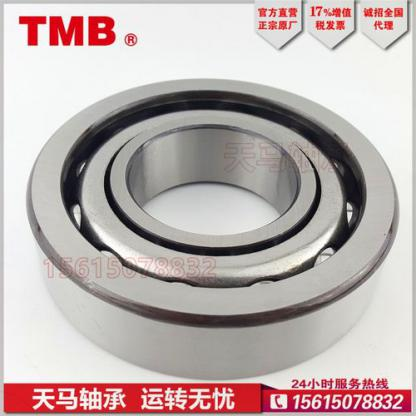FOD: (23, 75, 405, 387)
